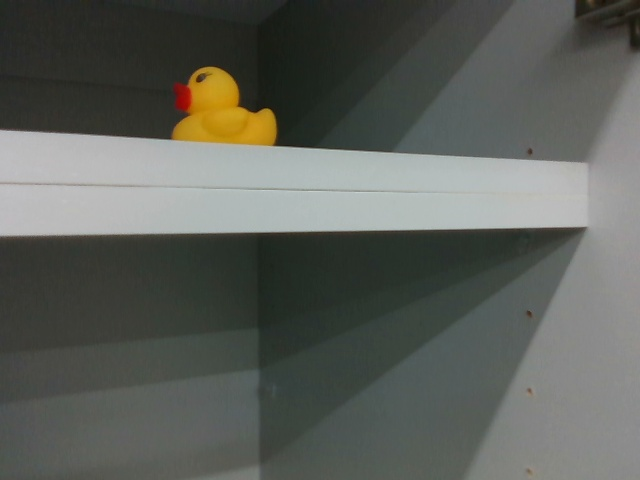duck: (165, 60, 279, 148)
